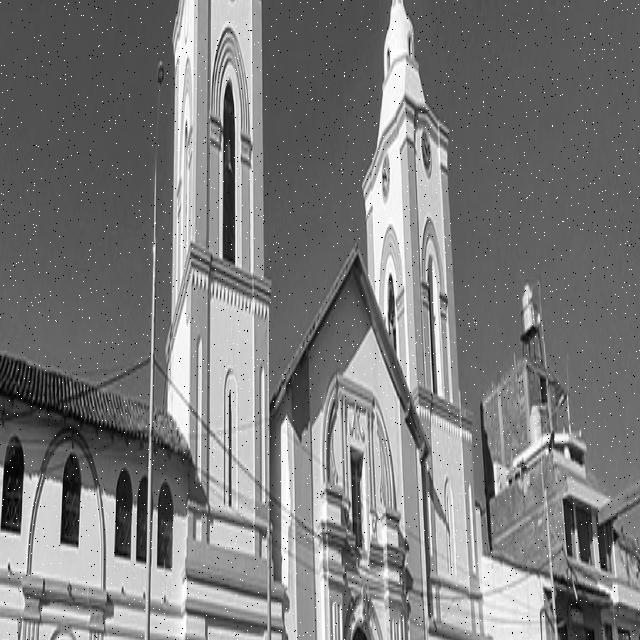CAMPANARIO: (365, 120, 467, 446), (166, 0, 267, 323)
colonial-architecture-: (0, 0, 492, 640)
